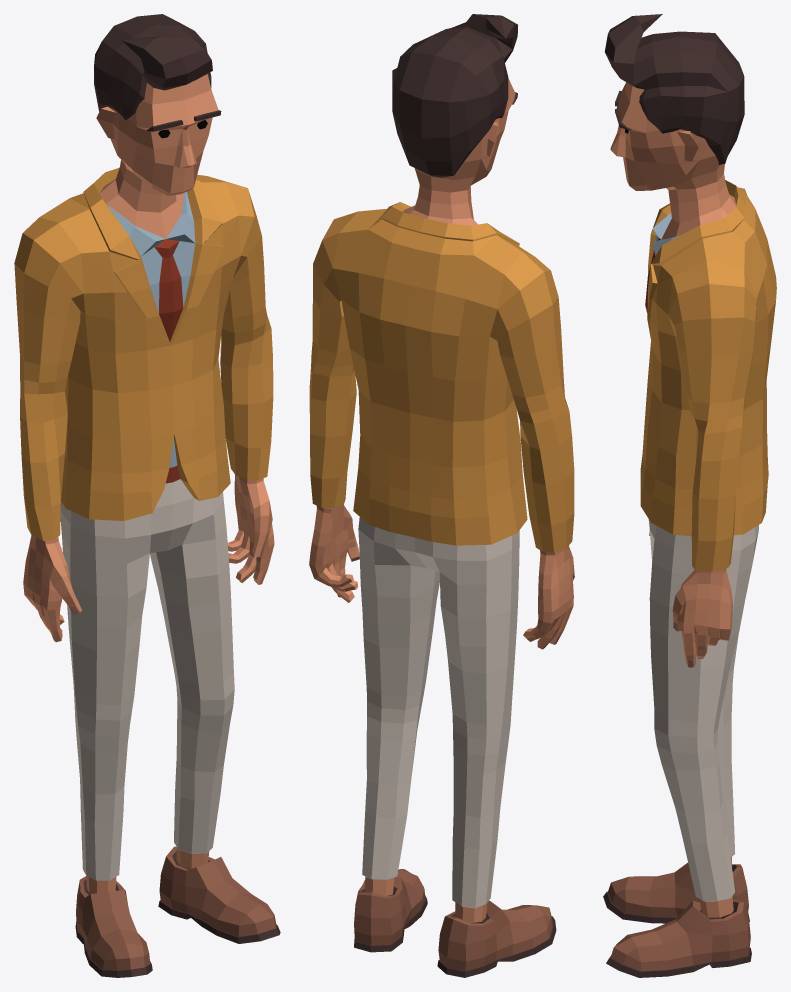
The model's file is Male_03.obj.
3 renders of one model, left to right at view 1: azimuth 30°, elevation 25°; view 2: azimuth 150°, elevation 25°; view 3: azimuth 270°, elevation 25°, orthographic.
Parts seen in each view (by area): view 1: Body-03_Cube.003; view 2: Body-03_Cube.003; view 3: Body-03_Cube.003.
Boxes of the visible parts, box(x1,y1,x2,y2) form: Body-03_Cube.003: box(14, 14, 280, 977); Body-03_Cube.003: box(309, 14, 574, 977); Body-03_Cube.003: box(603, 14, 776, 977).
Bounding box in the file's own units: 0.589 × 2.07 × 0.3585.
